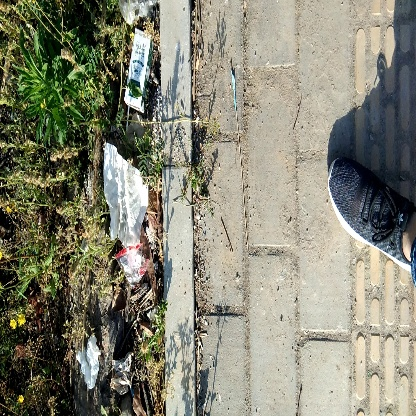milk-box: (125, 27, 156, 115)
plastic-bag: (100, 144, 152, 253)
